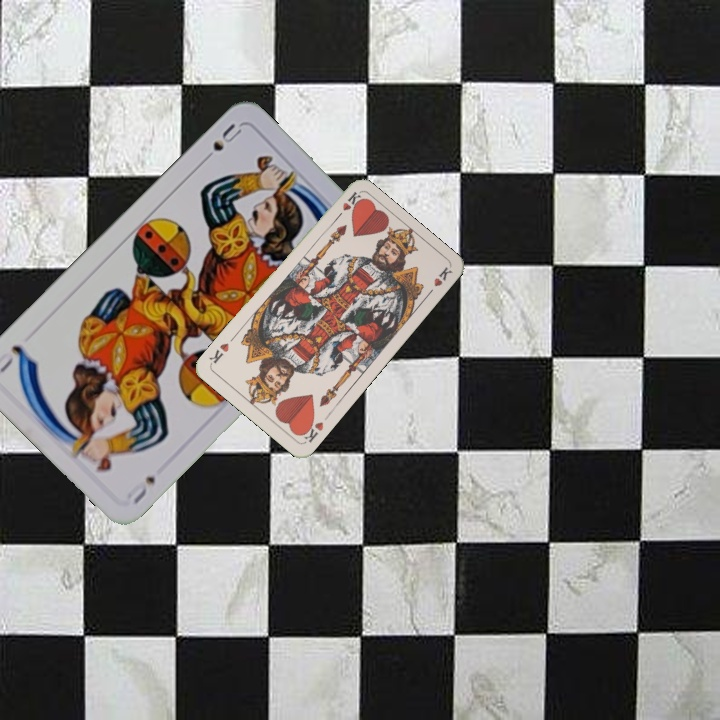HK: (297, 411, 331, 445), (330, 188, 362, 224)
SU: (196, 119, 245, 167), (122, 471, 158, 507)
